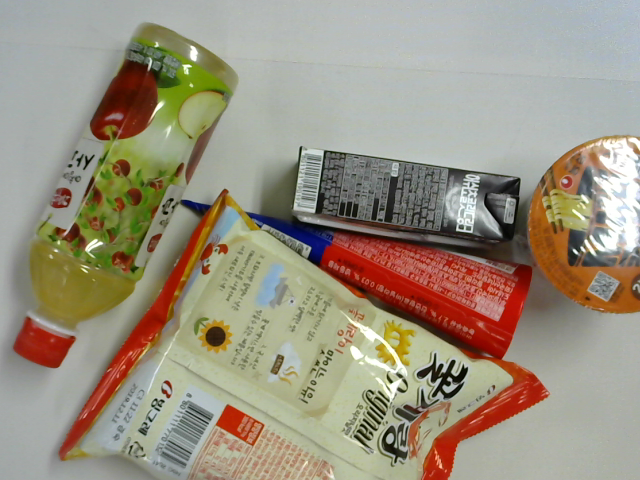Crabrang: (67, 200, 549, 480)
Hush_Choco_Drink: (290, 144, 528, 255)
Morning_Apple_500ml: (12, 21, 239, 369)
Udongmini: (525, 134, 640, 312)
World_Cone_Banila: (178, 197, 533, 367)
